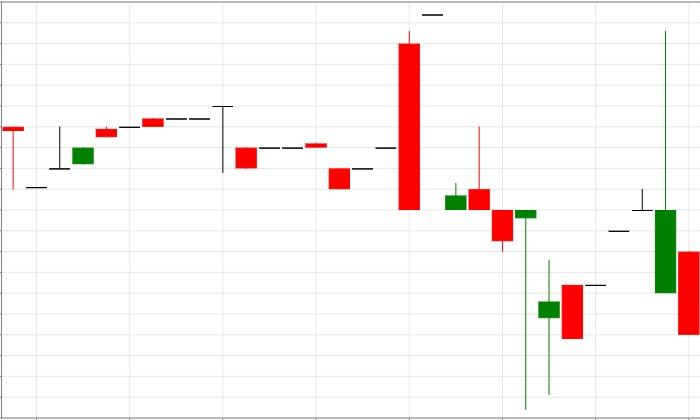shooting_star_fall: (537, 30, 677, 395)
